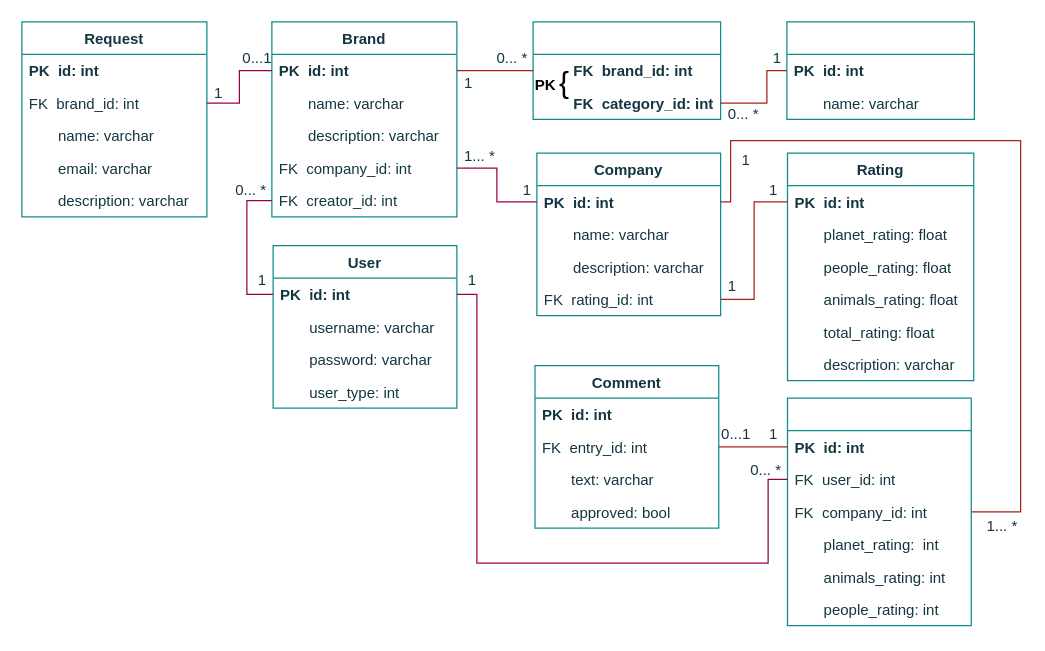
This 1045x651 diagram has some shape labels left out. Each missing label, with the box of its shape:
Brand_category: (532, 21, 721, 119)
Category: (786, 21, 974, 119)
Rating_entry: (786, 397, 971, 626)
